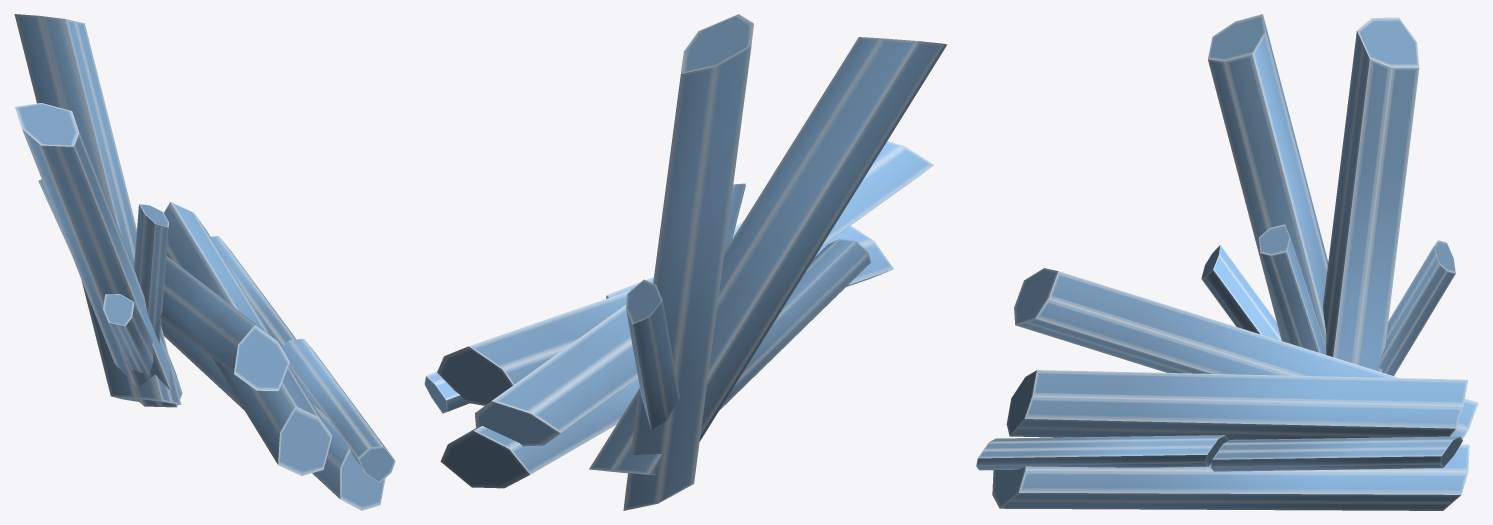
The model's file is wall_railing_01.fbx.
3 views of the same model, side by side, from view 1: azimuth 30°, elevation 25°; view 2: azimuth 150°, elevation 25°; view 3: azimuth 270°, elevation 25° (orthographic). The views are drawn at different scales.
Parts seen in each view (by area): view 1: wall_railing_01; view 2: wall_railing_01; view 3: wall_railing_01.
Part boxes in pixels (x1,y1,x2,y2): wall_railing_01: (14,14,395,510); wall_railing_01: (424,14,947,510); wall_railing_01: (976,14,1478,510).
Size of the model in its own units: 1.04 by 1.32 by 1.41.
Materials: 1 (1 with a texture image).
